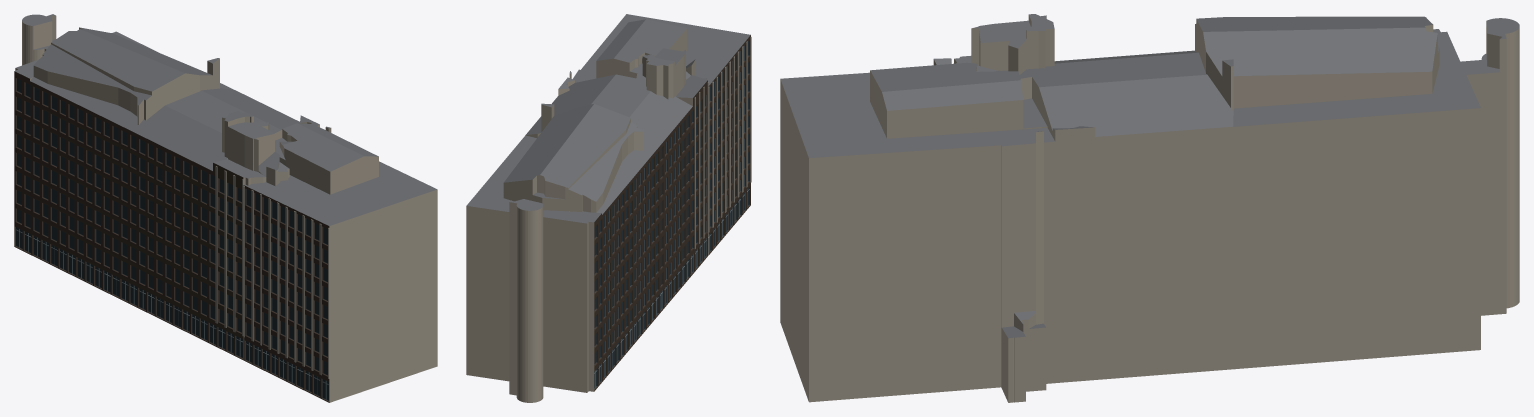
The model's file is recipe-large-cygnus.glb.
The picture shows the model from 3 angles, left to right: view 1: azimuth 30°, elevation 25°; view 2: azimuth 150°, elevation 25°; view 3: azimuth 270°, elevation 25°; orthographic projection. The views are drawn at different scales.
Parts seen in each view (by area): view 1: cygnus; view 2: cygnus; view 3: cygnus.
Part boxes in pixels (left/top/right/bottom): cygnus: left=14, top=14, right=437, bottom=402; cygnus: left=466, top=14, right=751, bottom=402; cygnus: left=780, top=14, right=1519, bottom=402.
Size of the model in its own units: 30.62 by 32.58 by 72.62.
